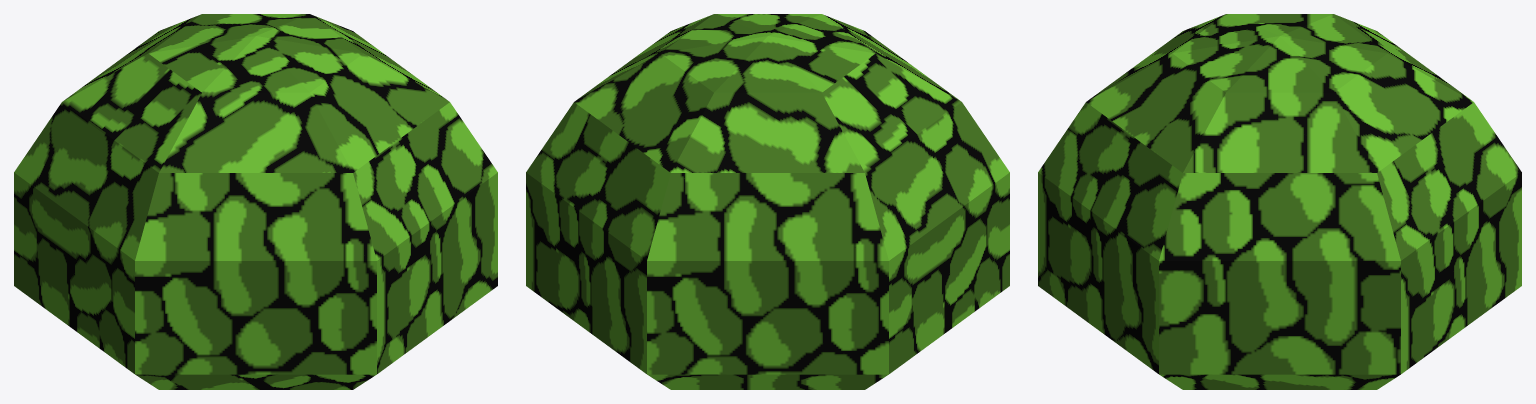
File: bush.fbx
The picture shows the model from 3 angles, left to right: view 1: azimuth 30°, elevation 25°; view 2: azimuth 150°, elevation 25°; view 3: azimuth 270°, elevation 25°; orthographic projection.
Parts seen in each view (by area): view 1: Sphere; view 2: Sphere; view 3: Sphere.
Part boxes in pixels (x1=…): Sphere: x1=14, y1=14, x2=497, y2=389; Sphere: x1=526, y1=14, x2=1009, y2=389; Sphere: x1=1038, y1=14, x2=1521, y2=389.
Bounding box in the file's own units: 169 × 140 × 195.
